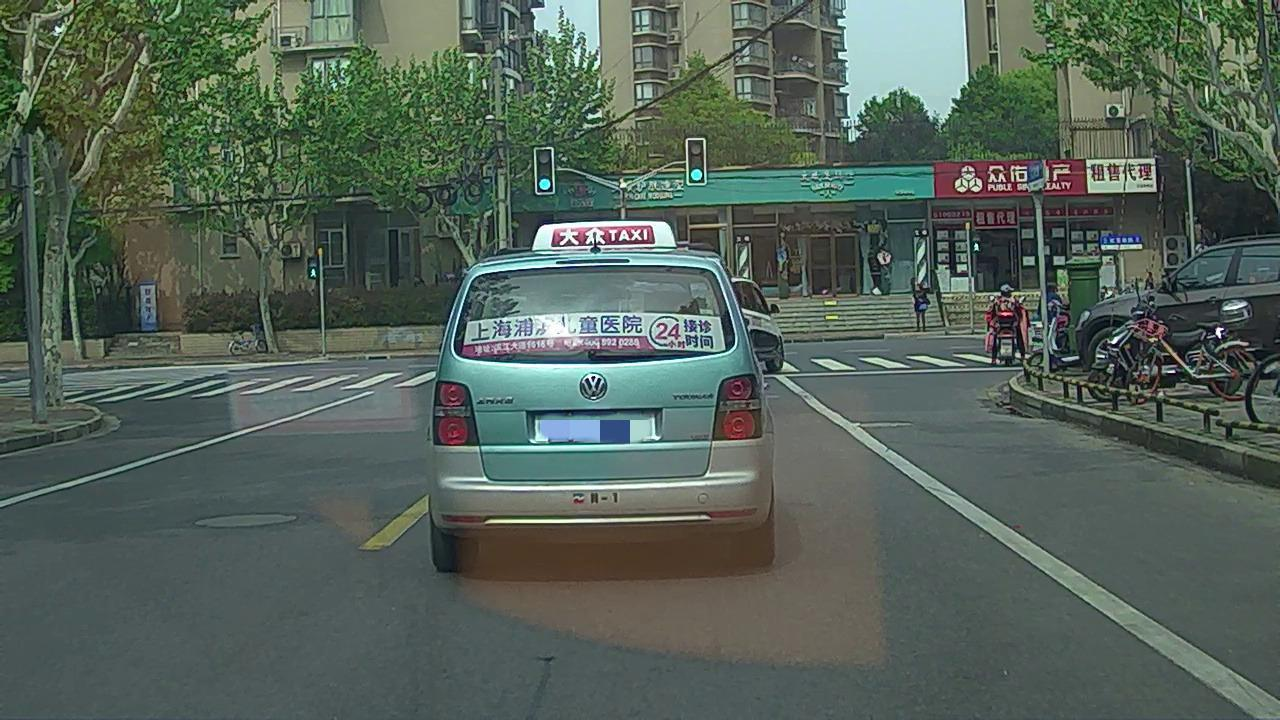traffic_light: (535, 149, 553, 192), (689, 139, 705, 184)
